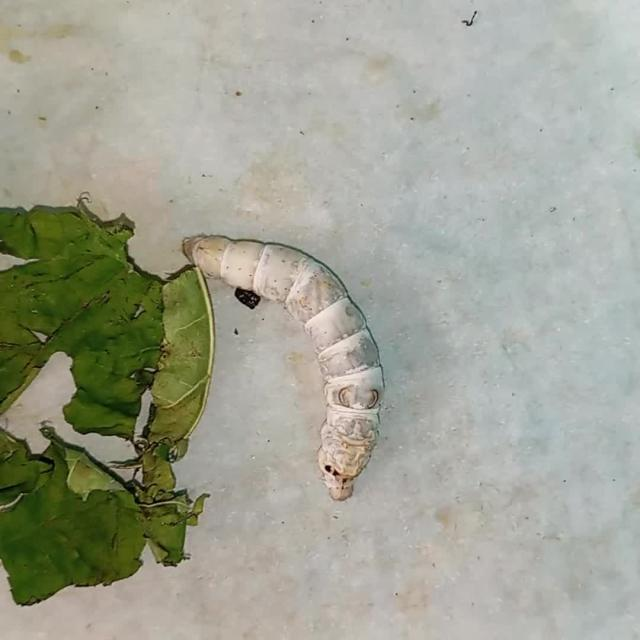Grasserie: (180, 218, 391, 505)
